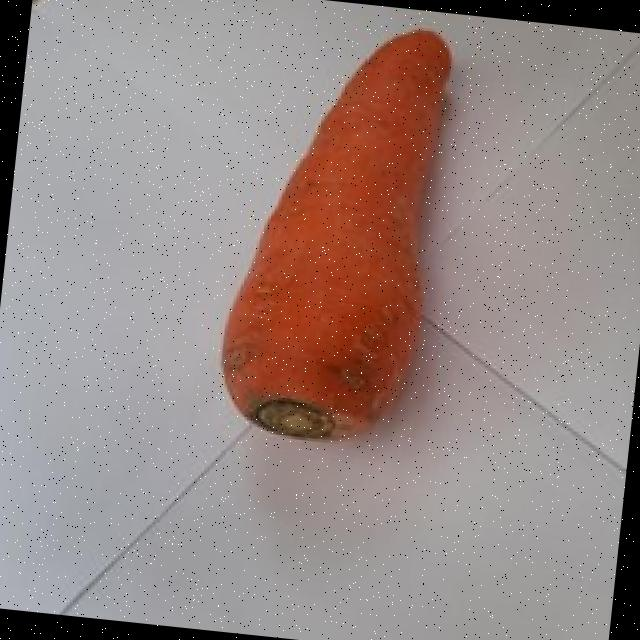carrot: (221, 29, 449, 438)
